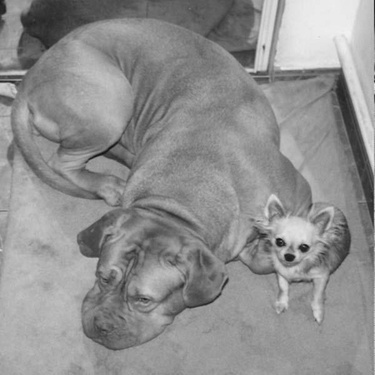dog: (7, 7, 319, 351), (239, 184, 350, 327)
